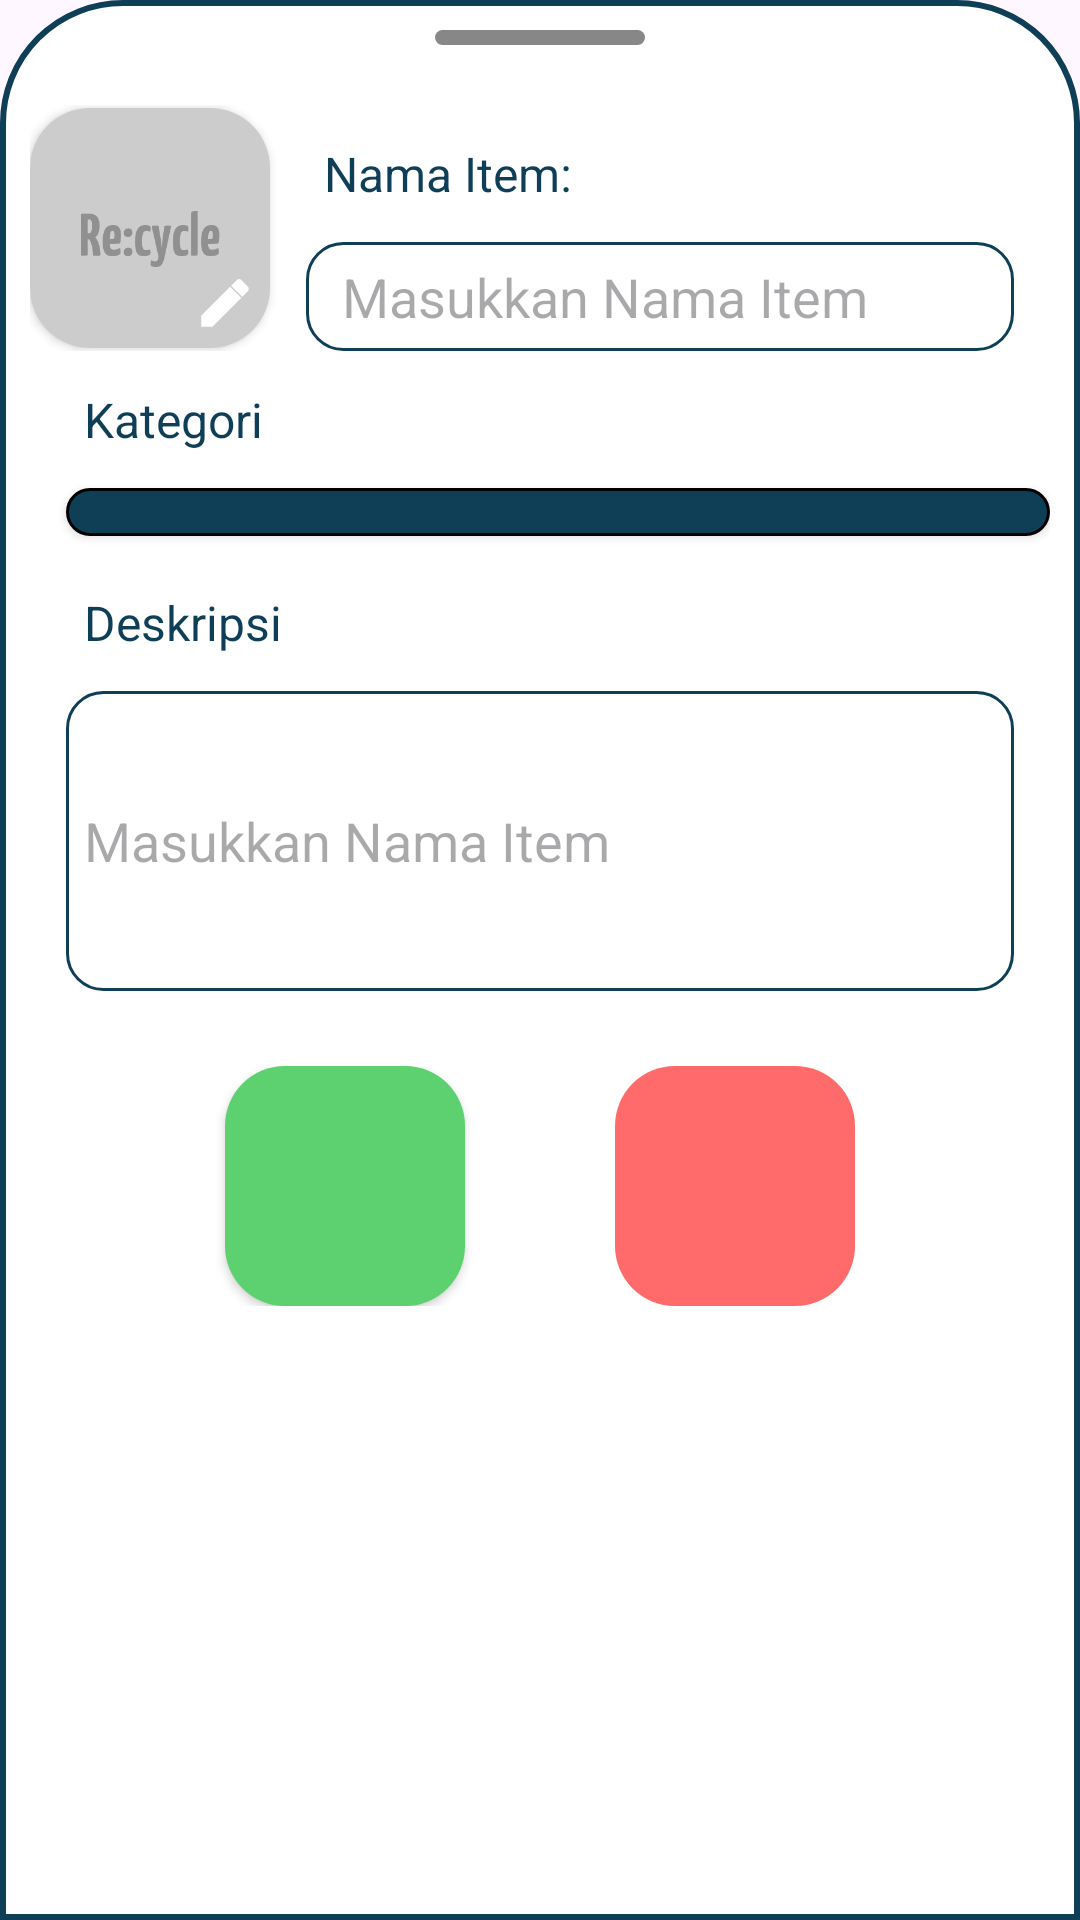

Where icons sit on this 1080*1920 app screen, as (x1=x1, y1=y1, x2=x2, y2=y2):
edit: (x1=201, y1=279, x2=249, y2=327)
